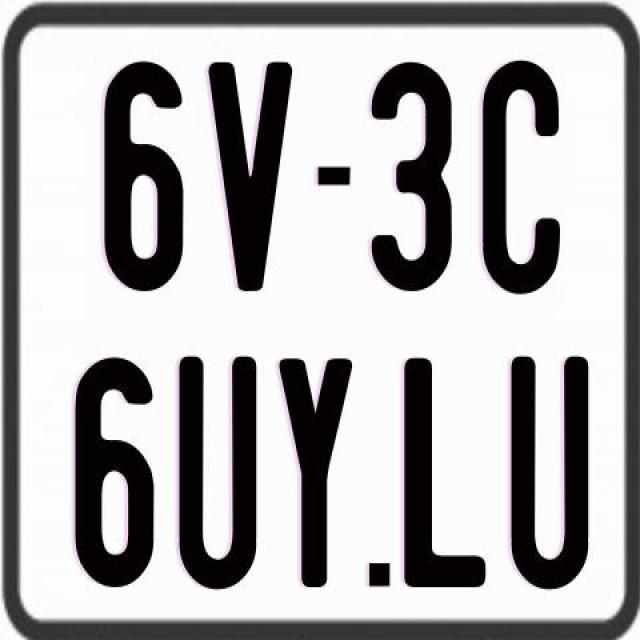3: (370, 62, 454, 301)
6: (100, 56, 184, 290), (74, 357, 154, 597)
C: (479, 56, 562, 293)
L: (404, 357, 487, 592)
U: (178, 354, 260, 594), (506, 352, 590, 584)
V: (206, 61, 296, 292)
Y: (276, 355, 352, 592)
